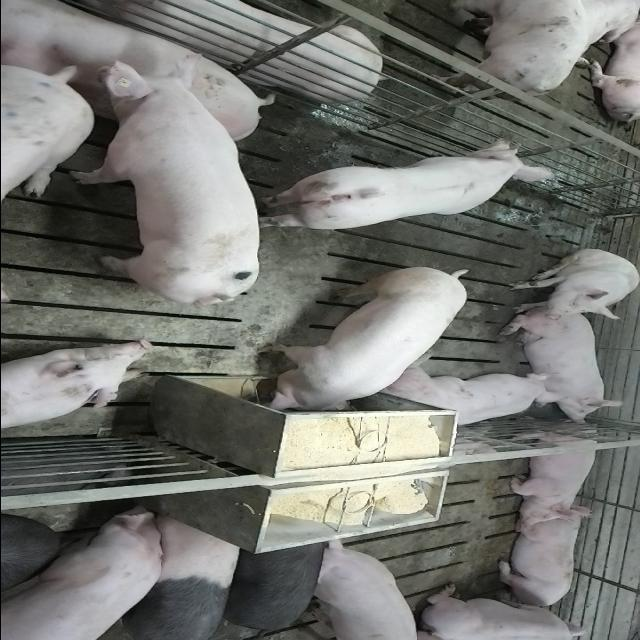Feeding: (248, 271, 470, 421)
Lateral_lying: (0, 0, 274, 142), (47, 0, 385, 102)
Sitting: (503, 249, 638, 321)
Standing: (63, 56, 264, 308), (258, 138, 560, 232), (0, 505, 171, 639), (75, 512, 242, 638), (413, 0, 589, 104), (3, 58, 97, 216), (300, 532, 418, 636), (220, 536, 330, 638)
Sternal_lying: (0, 338, 152, 432), (504, 312, 624, 423), (382, 366, 562, 430), (504, 424, 604, 524), (415, 584, 599, 638), (492, 511, 588, 609)
